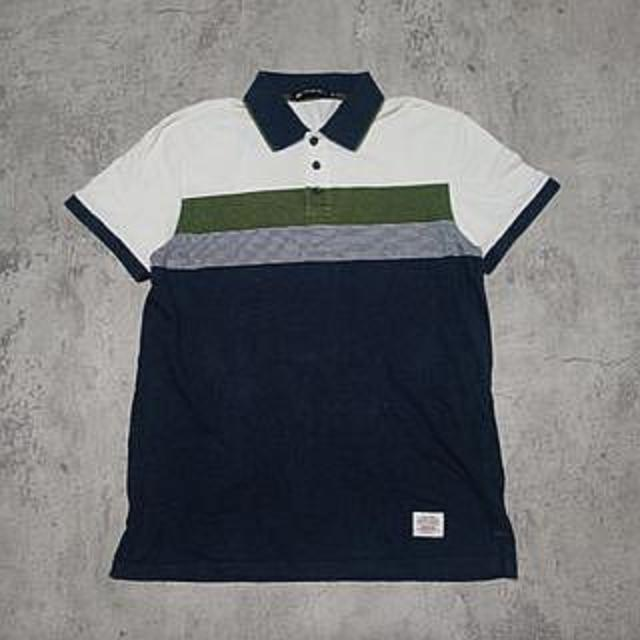T_SHIRT: (50, 66, 576, 594)
